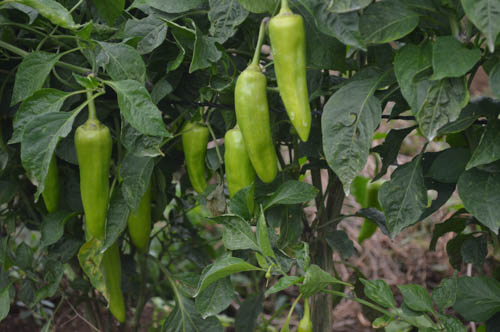ChiliPepper: (267, 16, 314, 141), (73, 127, 113, 239), (236, 70, 276, 182), (224, 131, 253, 215), (120, 167, 151, 245), (96, 243, 127, 319), (181, 122, 204, 192)
